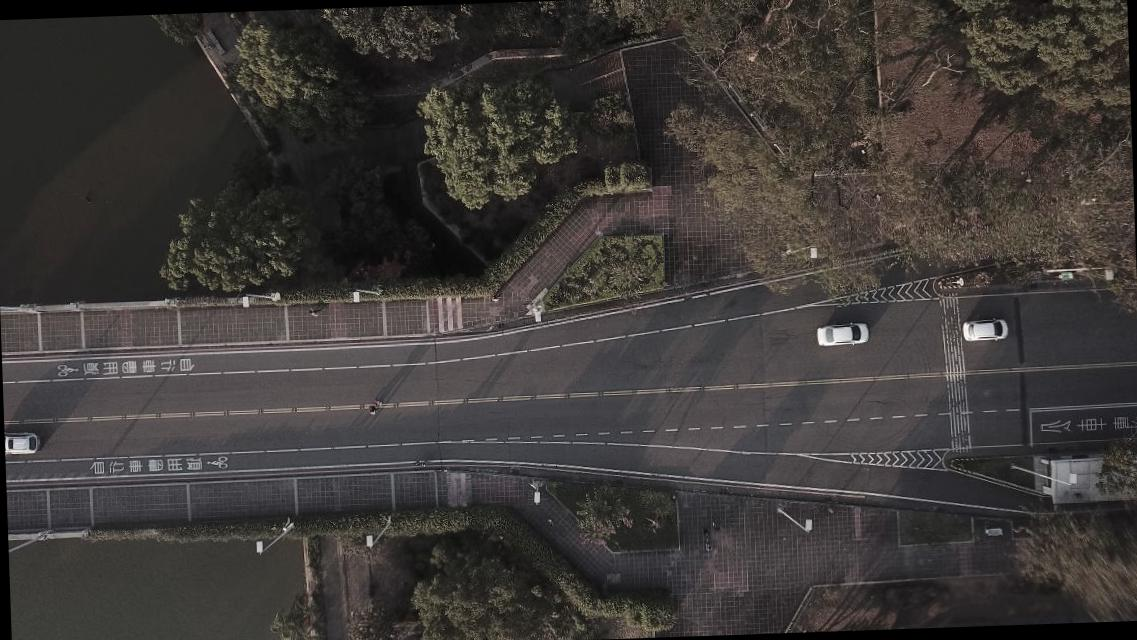vehicle: (815, 322, 868, 346), (961, 316, 1008, 342), (3, 430, 40, 456)
